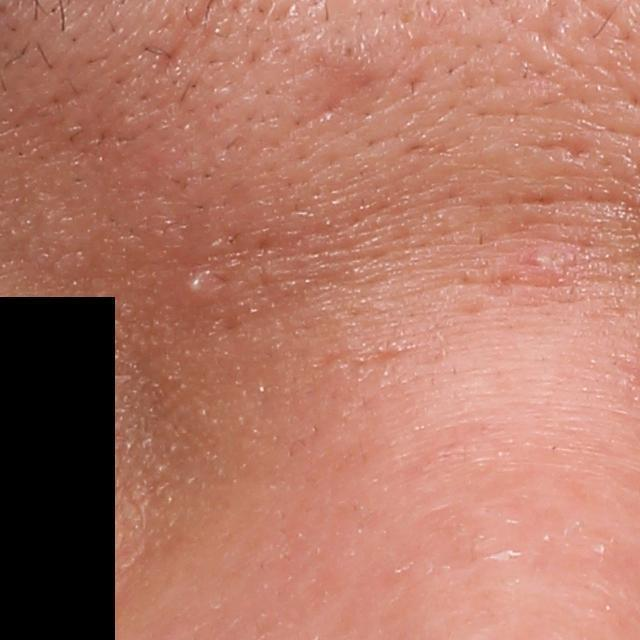atrophic_scar: (311, 47, 387, 123), (520, 132, 601, 166)
pustule: (179, 269, 206, 299)
